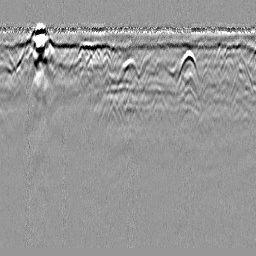cavity: (116, 55, 140, 85)
